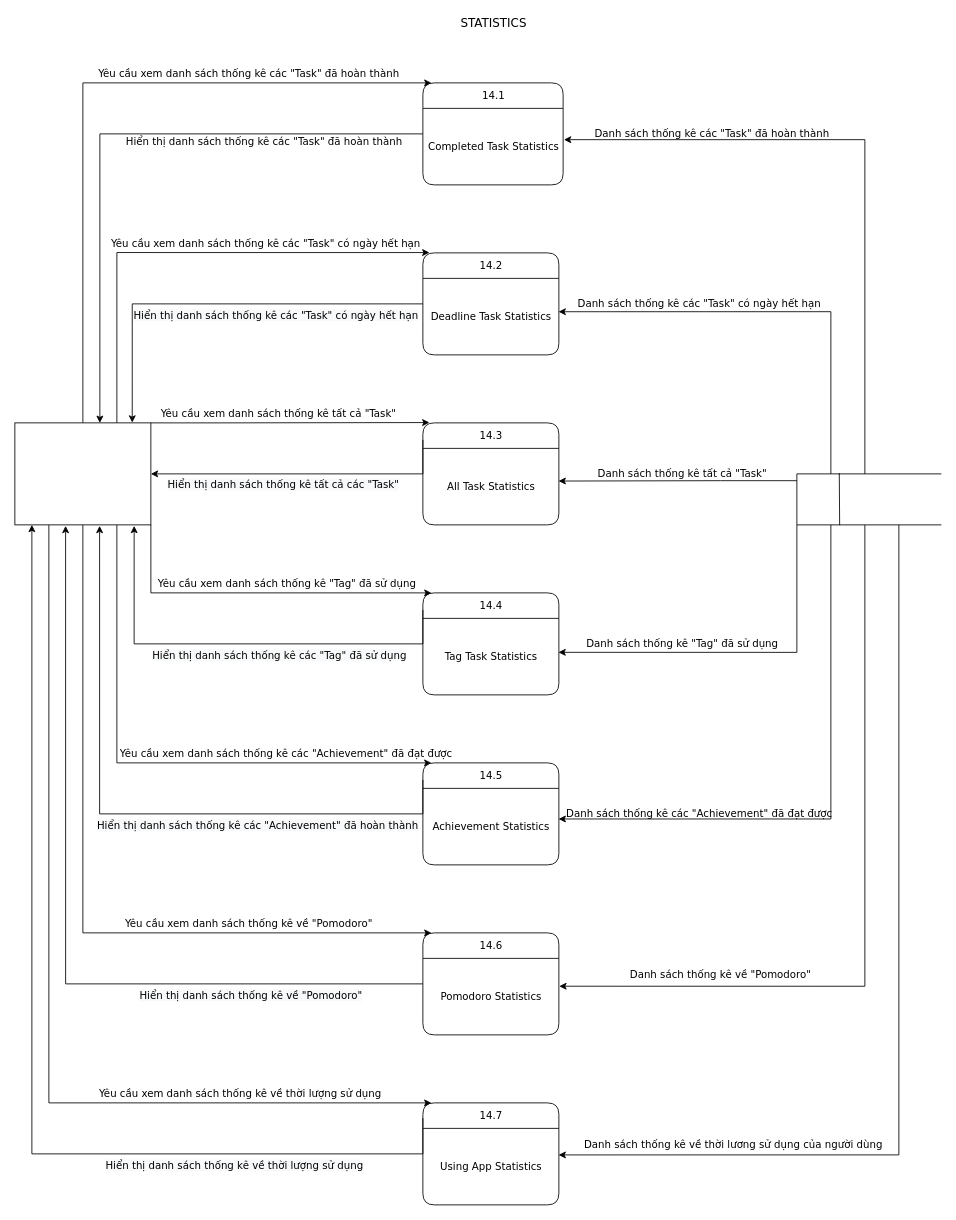
Image size: 956x1220. Some labels were removed from this diagram. Each missing label, with the centre of its shape:
"Database" goes at pixel 868 499.
"User" goes at pixel 82 473.
